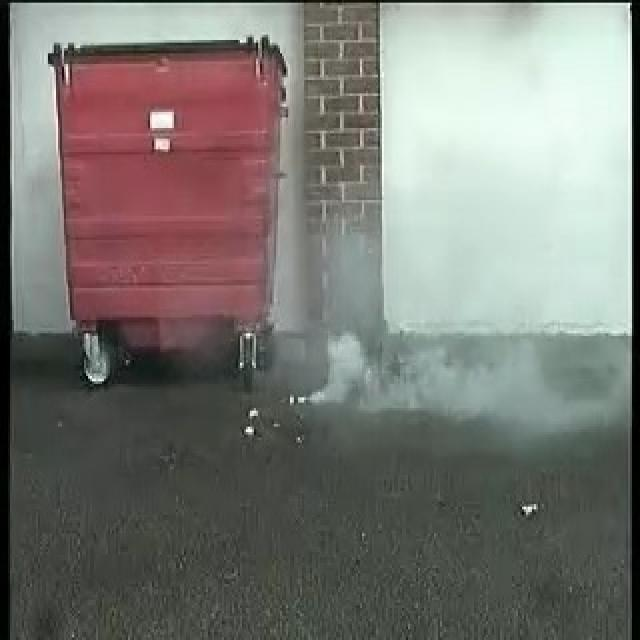smoke: (270, 226, 384, 411)
